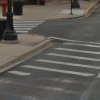crosswalk: (0, 44, 99, 93), (12, 19, 44, 33)
